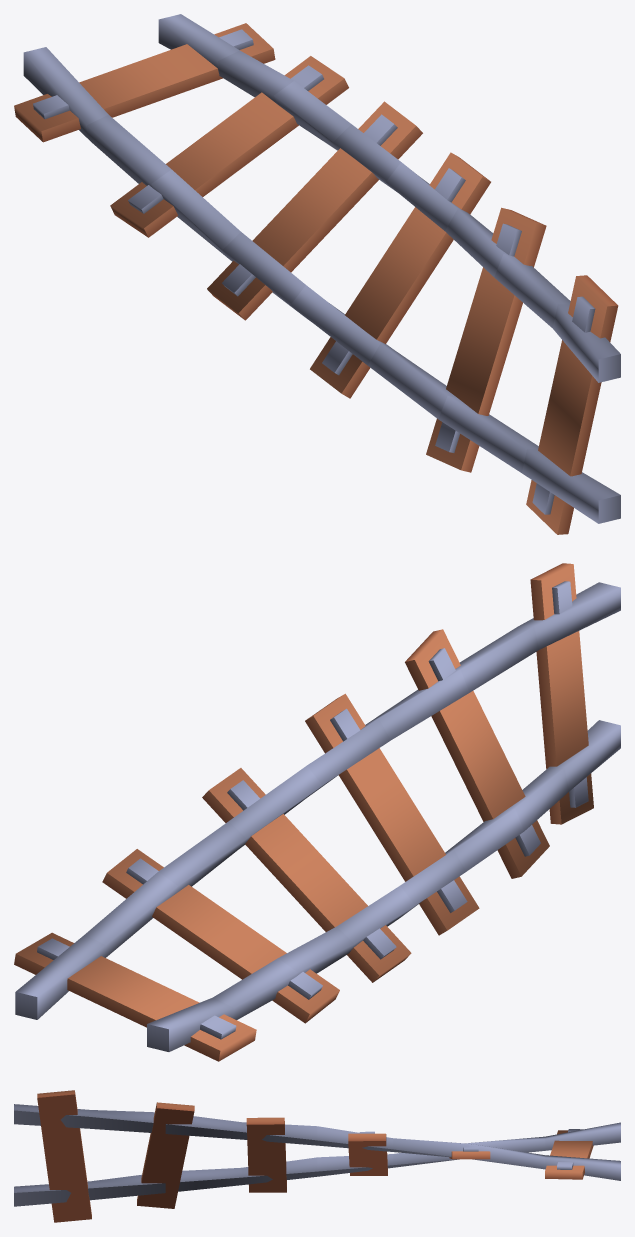
File: railroad-damaged-straight-skew-right-side.glb
3 renders of one model, top to bottom at view 1: azimuth 30°, elevation 25°; view 2: azimuth 150°, elevation 25°; view 3: azimuth 270°, elevation 25°, orthographic. The views are drawn at different scales.
Parts seen in each view (by area): view 1: railroad-damaged-straight-skew-right-side; view 2: railroad-damaged-straight-skew-right-side; view 3: railroad-damaged-straight-skew-right-side.
Boxes of the visible parts, x1,y1,x2,y2 form: railroad-damaged-straight-skew-right-side: [14, 14, 620, 534]; railroad-damaged-straight-skew-right-side: [14, 563, 620, 1061]; railroad-damaged-straight-skew-right-side: [14, 1090, 620, 1222].
Size of the model in its own units: 1.01 by 1.02 by 4.
